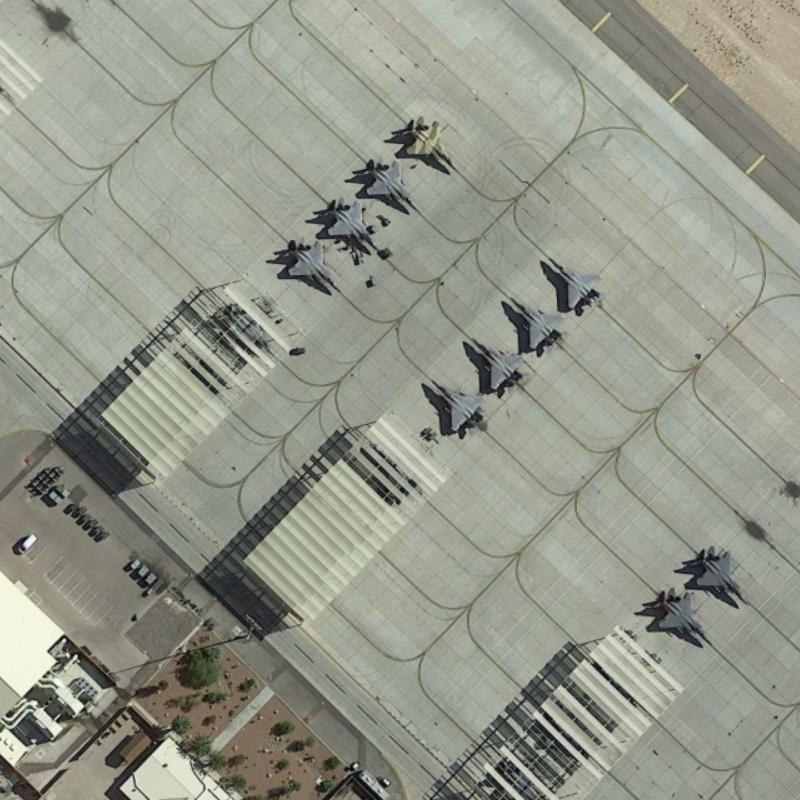A13: (651, 584, 717, 649), (687, 544, 753, 607), (277, 235, 345, 295), (504, 292, 567, 356), (396, 112, 461, 174), (466, 334, 531, 394), (543, 252, 605, 313), (426, 375, 487, 435), (320, 194, 380, 252), (359, 158, 419, 213)
